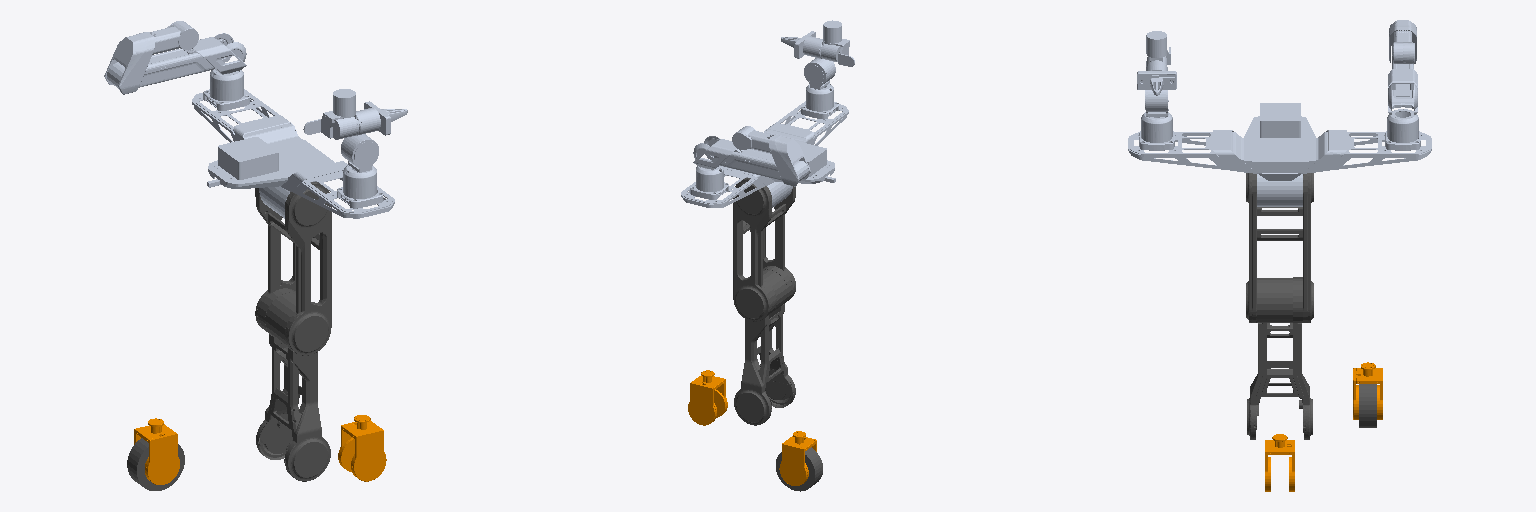
--- Render facts (derived) ---
3 views of the same robot in one strip: view 1: azimuth 30°, elevation 25°; view 2: azimuth 150°, elevation 25°; view 3: azimuth 270°, elevation 25° (orthographic).
Robot: mmp_revB_invconfig_upright_a1x — 33 links, 32 joints (18 revolute, 4 continuous, 6 prismatic, 4 fixed); root link root; default pose: every joint at zero.
Links seen in each view (by area): view 1: torso_link3, torso_link1, torso_link2, left_arm_link2, left_arm_link3, steer_motor_link1, steer_motor_link2, right_arm_base_link, left_arm_base_link, right_arm_link4, wheel_motor_link2, right_arm_link1 (+1 smaller); view 2: torso_link1, torso_link2, torso_link3, left_arm_link2, left_arm_link3, steer_motor_link1, steer_motor_link2, left_arm_base_link, right_arm_base_link, right_arm_link4, wheel_motor_link2, right_arm_link1 (+1 smaller); view 3: torso_link3, torso_link1, torso_link2, left_arm_link2, left_arm_base_link, right_arm_base_link, left_arm_link3, steer_motor_link2, steer_motor_link1, wheel_motor_link2, right_gripper_link, right_arm_link4 (+1 smaller).
Boxes of the visible links, x1,y1,x2,y2 form: torso_link3: [192, 89, 394, 218]; torso_link1: [256, 288, 330, 481]; torso_link2: [255, 182, 331, 355]; left_arm_link2: [107, 33, 246, 88]; left_arm_link3: [104, 21, 198, 94]; steer_motor_link1: [338, 415, 386, 481]; steer_motor_link2: [134, 418, 179, 484]; right_arm_base_link: [337, 165, 383, 208]; left_arm_base_link: [203, 69, 249, 110]; right_arm_link4: [303, 89, 355, 138]; wheel_motor_link2: [127, 438, 184, 490]; right_arm_link1: [341, 134, 378, 172]; torso_link1: [734, 266, 795, 425]; torso_link2: [733, 178, 795, 321]; torso_link3: [681, 101, 848, 207]; left_arm_link2: [693, 136, 808, 180]; left_arm_link3: [732, 126, 810, 186]; steer_motor_link1: [688, 370, 727, 425]; steer_motor_link2: [779, 431, 816, 485]; left_arm_base_link: [690, 166, 728, 199]; right_arm_base_link: [801, 83, 838, 119]; right_arm_link4: [823, 20, 854, 66]; wheel_motor_link2: [776, 447, 822, 491]; right_arm_link1: [804, 58, 835, 89]; torso_link3: [1128, 103, 1431, 206]; torso_link1: [1247, 277, 1312, 439]; torso_link2: [1246, 173, 1313, 322]; left_arm_link2: [1388, 45, 1417, 114]; left_arm_base_link: [1385, 109, 1420, 150]; right_arm_base_link: [1139, 112, 1174, 150]; left_arm_link3: [1389, 20, 1416, 63]; steer_motor_link2: [1353, 362, 1382, 419]; steer_motor_link1: [1265, 434, 1294, 491]; wheel_motor_link2: [1359, 384, 1376, 427]; right_gripper_link: [1137, 60, 1176, 89]; right_arm_link4: [1146, 31, 1170, 64].
Size in the robot's own frame: 0.8142 by 1.16 by 1.78 metres.
17 mesh visuals loaded from 30 distinct referenced files (17 binary STL); not drawn: 13 (reference not matched to a file when rendering).

robot.urdf — mmp_revB_invconfig_upright_a1x:
<?xml version='1.0' encoding='utf-8'?>
<robot name="mmp_revB_invconfig_upright_a1x">
  <link name="root">
    <inertial>
      <mass value="0.0" />
      <inertia ixx="0.0" ixy="0.0" ixz="0.0" iyy="0.0" iyz="0.0" izz="0.0" />
    </inertial>
  </link>
  <link name="root_arm_1_link_1">
    <inertial>
      <mass value="0.0" />
      <inertia ixx="0.0" ixy="0.0" ixz="0.0" iyy="0.0" iyz="0.0" izz="0.0" />
    </inertial>
  </link>
  <link name="root_arm_1_link_2">
    <inertial>
      <mass value="0.0" />
      <inertia ixx="0.0" ixy="0.0" ixz="0.0" iyy="0.0" iyz="0.0" izz="0.0" />
    </inertial>
  </link>
  <joint name="root_x_axis_joint" type="prismatic">
    <parent link="root" />
    <child link="root_arm_1_link_1" />
    <axis xyz="1 0 0" />
    <limit effort="100" lower="-20" upper="20" velocity="0.50" />
    <dynamics damping="10.0" friction="10" />
  </joint>
  <joint name="root_y_axis_joint" type="prismatic">
    <parent link="root_arm_1_link_1" />
    <child link="root_arm_1_link_2" />
    <axis xyz="0 1 0" />
    <limit effort="100" lower="-20" upper="20" velocity="0.50" />
    <dynamics damping="10.0" friction="10" />
  </joint>
  <joint name="root_z_rotation_joint" type="continuous">
    <parent link="root_arm_1_link_2" />
    <child link="base_link" />
    <axis xyz="0 0 1" />
    <dynamics damping="10.0" friction="1" />
  </joint>
  <link name="base_link">
    <inertial>
      <origin xyz="0.0718033657159837 -0.0016279349766449 0.128750850965126" rpy="0 0 0" />
      <mass value="68.91281599999999" />
      <inertia ixx="1.0272066597342813" ixy="0.00037709742916469" ixz="-0.04226963069677458" iyy="0.817685679047921" iyz="-0.00266093209778108" izz="1.5662451285900096" />
    </inertial>
    <visual>
      <origin xyz="0 0 0" rpy="0 0 0" />
      <geometry>
        <mesh filename="../meshes/base_link.STL" scale="1.4 1.4 1.4" />
      </geometry>
      <material name="">
        <color rgba="0.294117647058824 0.294117647058824 0.294117647058824 1" />
      </material>
    </visual>
    <collision>
      <origin xyz="0 0 0" rpy="0 0 0" />
      <geometry>
        <mesh filename="../meshes/base_link.STL" scale="1.4 1.4 1.4" />
      </geometry>
    </collision>
  </link>
  <link name="steer_motor_link1">
    <inertial>
      <origin xyz="-1.76196610579549E-07 -7.75116053202478E-05 -0.0852489956386505" rpy="0 0 0" />
      <mass value="4.115999999999999" />
      <inertia ixx="0.001821382122530813" ixy="3.303302041965096e-08" ixz="3.5526713338090616e-08" iyy="0.0027101002552780066" iyz="1.9389428020280148e-07" izz="0.001137426489910632" />
    </inertial>
    <visual>
      <origin xyz="0 0 0" rpy="0 0 0" />
      <geometry>
        <mesh filename="../meshes/steer_motor_link1.STL" scale="1.4 1.4 1.4" />
      </geometry>
      <material name="">
        <color rgba="1 0.6 0 1" />
      </material>
    </visual>
    <collision>
      <origin xyz="0 0 0" rpy="0 0 0" />
      <geometry>
        <mesh filename="../meshes/steer_motor_link1.STL" scale="1.4 1.4 1.4" />
      </geometry>
    </collision>
  </link>
  <joint name="steer_motor_joint1" type="revolute">
    <origin xyz="0.4085619999999999 -0.00208558 0.25431" rpy="0 0 0" />
    <parent link="base_link" />
    <child link="steer_motor_link1" />
    <axis xyz="0 0 1" />
    <limit lower="-3.1416" upper="3.1416" effort="20" velocity="20" />
  </joint>
  <link name="wheel_motor_link1">
    <inertial>
      <origin xyz="0 -9.99250577455509E-13 -2.34534613952064E-15" rpy="0 0 0" />
      <mass value="4.115999999999999" />
      <inertia ixx="0.005631151591003508" ixy="1.0874059651431817e-17" ixz="-4.664879593717945e-19" iyy="0.009736288918813396" iyz="1.9045748343875173e-16" izz="0.005631151591003508" />
    </inertial>
    <visual>
      <origin xyz="0 0 0" rpy="0 0 0" />
      <geometry>
        <mesh filename="../meshes/wheel_motor_link1.STL" scale="1.4 1.4 1.4" />
      </geometry>
      <material name="">
        <color rgba="0.4 0.4 0.4 1" />
      </material>
    </visual>
    <collision>
      <origin xyz="0 0 0" rpy="0 0 0" />
      <geometry>
        <mesh filename="../meshes/wheel_motor_link1.STL" scale="1.4 1.4 1.4" />
      </geometry>
    </collision>
  </link>
  <joint name="wheel_motor_joint1" type="continuous">
    <origin xyz="0.0 0.0 -0.15630999999999998" rpy="0 0 0" />
    <parent link="steer_motor_link1" />
    <child link="wheel_motor_link1" />
    <axis xyz="0 1 0" />
  </joint>
  <link name="steer_motor_link2">
    <inertial>
      <origin xyz="1.76196610607304E-07 7.75116053202962E-05 -0.0852489956386505" rpy="0 0 0" />
      <mass value="4.115999999999999" />
      <inertia ixx="0.001821382122530813" ixy="3.303302041968463e-08" ixz="-3.55267133380648e-08" iyy="0.0027101002552780066" iyz="-1.9389428020284932e-07" izz="0.0011374264899106266" />
    </inertial>
    <visual>
      <origin xyz="0 0 0" rpy="0 0 0" />
      <geometry>
        <mesh filename="../meshes/steer_motor_link2.STL" scale="1.4 1.4 1.4" />
      </geometry>
      <material name="">
        <color rgba="1 0.6 0 1" />
      </material>
    </visual>
    <collision>
      <origin xyz="0 0 0" rpy="0 0 0" />
      <geometry>
        <mesh filename="../meshes/steer_motor_link2.STL" scale="1.4 1.4 1.4" />
      </geometry>
    </collision>
  </link>
  <joint name="steer_motor_joint2" type="revolute">
    <origin xyz="-0.23543799999999995 0.333914 0.25431" rpy="0 0 0" />
    <parent link="base_link" />
    <child link="steer_motor_link2" />
    <axis xyz="0 0 1" />
    <limit lower="-3.1416" upper="3.1416" effort="20" velocity="20" />
  </joint>
  <link name="wheel_motor_link2">
    <inertial>
      <origin xyz="2.77555756156289E-17 -1.94289029309402E-16 -2.34621350125863E-15" rpy="0 0 0" />
      <mass value="4.115999999999999" />
      <inertia ixx="0.005631151591003508" ixy="1.081574865651036e-17" ixz="-4.664879593717945e-19" iyy="0.009736288918813396" iyz="1.9043968833532117e-16" izz="0.005631151591003508" />
    </inertial>
    <visual>
      <origin xyz="0 0 0" rpy="0 0 0" />
      <geometry>
        <mesh filename="../meshes/wheel_motor_link2.STL" scale="1.4 1.4 1.4" />
      </geometry>
      <material name="">
        <color rgba="0.4 0.4 0.4 1" />
      </material>
    </visual>
    <collision>
      <origin xyz="0 0 0" rpy="0 0 0" />
      <geometry>
        <mesh filename="../meshes/wheel_motor_link2.STL" scale="1.4 1.4 1.4" />
      </geometry>
    </collision>
  </link>
  <joint name="wheel_motor_joint2" type="continuous">
    <origin xyz="0.0 0.0 -0.15630999999999998" rpy="0 0 0" />
    <parent link="steer_motor_link2" />
    <child link="wheel_motor_link2" />
    <axis xyz="0 1 0" />
  </joint>
  <link name="steer_motor_link3">
    <inertial>
      <origin xyz="1.76196610579549E-07 7.75116053202407E-05 -0.0852489956386505" rpy="0 0 0" />
      <mass value="4.115999999999999" />
      <inertia ixx="0.001821382122530813" ixy="3.303302041963439e-08" ixz="-3.5526713338077116e-08" iyy="0.0027101002552780066" iyz="-1.9389428020285686e-07" izz="0.0011374264899106266" />
    </inertial>
    <visual>
      <origin xyz="0 0 0" rpy="0 0 0" />
      <geometry>
        <mesh filename="../meshes/steer_motor_link3.STL" scale="1.4 1.4 1.4" />
      </geometry>
      <material name="">
        <color rgba="1 0.6 0 1" />
      </material>
    </visual>
    <collision>
      <origin xyz="0 0 0" rpy="0 0 0" />
      <geometry>
        <mesh filename="../meshes/steer_motor_link3.STL" scale="1.4 1.4 1.4" />
      </geometry>
    </collision>
  </link>
  <joint name="steer_motor_joint3" type="revolute">
    <origin xyz="-0.23543799999999995 -0.338086 0.25431" rpy="0 0 0" />
    <parent link="base_link" />
    <child link="steer_motor_link3" />
    <axis xyz="0 0 1" />
    <limit lower="-3.1416" upper="3.1416" effort="20" velocity="20" />
  </joint>
  <link name="wheel_motor_link3">
    <inertial>
      <origin xyz="0 -1.94289029309402E-16 -2.34274405430668E-15" rpy="0 0 0" />
      <mass value="4.115999999999999" />
      <inertia ixx="0.005631151591003508" ixy="1.0757437661588849e-17" ixz="-4.664879593717951e-19" iyy="0.009736288918813396" iyz="1.9031882399282055e-16" izz="0.005631151591003508" />
    </inertial>
    <visual>
      <origin xyz="0 0 0" rpy="0 0 0" />
      <geometry>
        <mesh filename="../meshes/wheel_motor_link3.STL" scale="1.4 1.4 1.4" />
      </geometry>
      <material name="">
        <color rgba="0.4 0.4 0.4 1" />
      </material>
    </visual>
    <collision>
      <origin xyz="0 0 0" rpy="0 0 0" />
      <geometry>
        <mesh filename="../meshes/wheel_motor_link3.STL" scale="1.4 1.4 1.4" />
      </geometry>
    </collision>
  </link>
  <joint name="wheel_motor_joint3" type="continuous">
    <origin xyz="0.0 0.0 -0.15630999999999998" rpy="0 0 0" />
    <parent link="steer_motor_link3" />
    <child link="wheel_motor_link3" />
    <axis xyz="0 1 0" />
  </joint>
  <link name="torso_link1">
    <inertial>
      <origin xyz="0.00321196798398059 0.0116566745256909 0.100697975240297" rpy="0 0 0" />
      <mass value="13.190407999999998" />
      <inertia ixx="0.016700053370842495" ixy="2.09458541158197e-05" ixz="-0.0006025232107811478" iyy="0.0175797863861459" iyz="0.00022313381758557485" izz="0.0019092428613843452" />
    </inertial>
    <visual>
      <origin xyz="0 0 0" rpy="0 0 0" />
      <geometry>
        <mesh filename="../meshes/torso_link1.STL" scale="1.4 1.4 1.4" />
      </geometry>
      <material name="">
        <color rgba="0.4 0.4 0.4 1" />
      </material>
    </visual>
    <collision>
      <origin xyz="0 0 0" rpy="0 0 0" />
      <geometry>
        <mesh filename="../meshes/torso_link1.STL" scale="1.4 1.4 1.4" />
      </geometry>
    </collision>
  </link>
  <joint name="torso_joint1" type="revolute">
    <origin xyz="0.1285634 0.000504462 0.20811" rpy="0 0 0" />
    <parent link="base_link" />
    <child link="torso_link1" />
    <axis xyz="0 1 0" />
    <limit lower="-1.5708" upper="0.436333" effort="100" velocity="2.5" />
  </joint>
  <link name="torso_link2">
    <inertial>
      <origin xyz="0.00627300956924463 0.00536087570300695 0.184118796618929" rpy="0 0 0" />
      <mass value="7.625575999999998" />
      <inertia ixx="0.16647845073227746" ixy="-3.000841100996963e-06" ixz="0.001602458313011958" iyy="0.17488432495165873" iyz="4.840935592651211e-06" izz="0.00996353728126896" />
    </inertial>
    <visual>
      <origin xyz="0 0 0" rpy="0 0 0" />
      <geometry>
        <mesh filename="../meshes/torso_link2.STL" scale="1.4 1.4 1.4" />
      </geometry>
      <material name="">
        <color rgba="0.4 0.4 0.4 1" />
      </material>
    </visual>
    <collision>
      <origin xyz="0 0 0" rpy="0 0 0" />
      <geometry>
        <mesh filename="../meshes/torso_link2.STL" scale="1.4 1.4 1.4" />
      </geometry>
    </collision>
  </link>
  <joint name="torso_joint2" type="revolute">
    <origin xyz="0.0 -0.00259 0.48999999999999994" rpy="0 0 0" />
    <parent link="torso_link1" />
    <child link="torso_link2" />
    <axis xyz="0 1 0" />
    <limit lower="-2.705262" upper="2.705262" effort="100" velocity="2.5" />
  </joint>
  <link name="torso_link3">
    <inertial>
      <origin xyz="-0.0416383086406449 0.000484599582373232 0.051111008977659" rpy="0 0 0" />
      <mass value="14.908151999999996" />
      <inertia ixx="0.03480900997003041" ixy="-2.428064547610168e-06" ixz="-6.921119767943804e-05" iyy="0.029167113536826616" iyz="-9.009143358127262e-07" izz="0.04544945908543078" />
    </inertial>
    <visual>
      <origin xyz="0 0 0" rpy="0 0 0" />
      <geometry>
        <mesh filename="../meshes/torso_link3.STL" scale="1.4 1.4 1.4" />
      </geometry>
      <material name="">
        <color rgba="0.807843137254902 0.843137254901961 0.905882352941176 1" />
      </material>
    </visual>
    <collision>
      <origin xyz="0 0 0" rpy="0 0 0" />
      <geometry>
        <mesh filename="../meshes/torso_link3.STL" scale="1.4 1.4 1.4" />
      </geometry>
    </collision>
  </link>
  <joint name="torso_joint3" type="revolute">
    <origin xyz="0.00013507899999999997 0.0 0.48999999999999994" rpy="0 0 0" />
    <parent link="torso_link2" />
    <child link="torso_link3" />
    <axis xyz="0 -1 0" />
    <limit lower="-1.5708" upper="1.5708" effort="100" velocity="2.5" />
  </joint>
  <link name="left_arm_base_link">
    <inertial>
      <origin xyz="0.0030333225964161 -0.000695374211760413 0.0297999913998699" rpy="0 0 0" />
      <mass value="2.1567839999999996" />
      <inertia ixx="0.0011274886106709524" ixy="7.552571429797282e-06" ixz="3.05854962100262e-05" iyy="0.0010745567959356192" iyz="-1.966958783325106e-05" izz="0.0012771162646026293" />
    </inertial>
    <visual>
      <origin xyz="0 0 0" rpy="0 0 0" />
      <geometry>
        <mesh filename="../meshes/left_arm_base_link.STL" scale="1.4 1.4 1.4" />
      </geometry>
      <material name="">
        <color rgba="0.807843137254902 0.843137254901961 0.905882352941176 1" />
      </material>
    </visual>
    <collision>
      <origin xyz="0 0 0" rpy="0 0 0" />
      <geometry>
        <mesh filename="../meshes/left_arm_base_link.STL" scale="1.4 1.4 1.4" />
      </geometry>
    </collision>
  </link>
  <joint name="left_arm_base_joint" type="fixed">
    <origin xyz="0.0 0.469 0.172284" rpy="0 0 0" />
    <parent link="torso_link3" />
    <child link="left_arm_base_link" />
    <axis xyz="0 0 0" />
  </joint>
  <link name="left_arm_link1">
    <inertial>
      <origin xyz="3.42079032877862E-07 -0.00198629091504759 0.0468866154783616" rpy="0 0 0" />
      <mass value="2.302215999999999" />
      <inertia ixx="0.0012055067787915329" ixy="-2.5698714875738277e-09" ixz="4.535847638160171e-08" iyy="0.0014510995080370022" iyz="5.046652725103513e-08" izz="0.0011763656132037722" />
    </inertial>
    <visual>
      <origin xyz="0 0 0" rpy="0 0 0" />
      <geometry>
        <mesh filename="../meshes/left_arm_link1.STL" scale="1.4 1.4 1.4" />
      </geometry>
      <material name="">
        <color rgba="0.807843137254902 0.843137254901961 0.905882352941176 1" />
      </material>
    </visual>
    <collision>
      <origin xyz="0 0 0" rpy="0 0 0" />
      <geometry>
        <mesh filename="../meshes/left_arm_link1.STL" scale="1.4 1.4 1.4" />
      </geometry>
    </collision>
  </link>
  <joint name="left_arm_joint1" type="revolute">
    <origin xyz="0.0 0.0 0.12047" rpy="0 0 0" />
    <parent link="left_arm_base_link" />
    <child link="left_arm_link1" />
    <axis xyz="0 0 1" />
    <limit lower="-2.8798" upper="2.8798" effort="27" velocity="10.472" />
  </joint>
  <link name="left_arm_link2">
    <inertial>
      <origin xyz="-0.122675172740935 -0.0295384346078661 0.00365030178710546" rpy="0 0 0" />
      <mass value="2.9909599999999994" />
      <inertia ixx="0.0020880582798286935" ixy="-0.000117051468057201" ixz="4.794305834362259e-05" iyy="0.014770662478081764" iyz="6.440349515732482e-06" izz="0.014952155067566595" />
    </inertial>
    <visual>
      <origin xyz="0 0 0" rpy="0 0 0" />
      <geometry>
        <mesh filename="../meshes/left_arm_link2.STL" scale="1.4 1.4 1.4" />
      </geometry>
      <material name="">
        <color rgba="0.807843137254902 0.843137254901961 0.905882352941176 1" />
      </material>
    </visual>
    <collision>
      <origin xyz="0 0 0" rpy="0 0 0" />
      <geometry>
        <mesh filename="../meshes/left_arm_link2.STL" scale="1.4 1.4 1.4" />
      </geometry>
    </collision>
  </link>
  <joint name="left_arm_joint2" type="revolute">
    <origin xyz="0.0 0.04305 0.06895" rpy="0 0 0" />
    <parent link="left_arm_link1" />
    <child link="left_arm_link2" />
    <axis xyz="0 1 0" />
    <limit lower="0" upper="3.1416" effort="50" velocity="12.5664" />
  </joint>
  <link name="left_arm_link3">
    <inertial>
      <origin xyz="0.0566624793223791 -0.0291316466078999 0.0568018844686509" rpy="0 0 0" />
      <mass value="2.0278159999999996" />
      <inertia ixx="0.00138708867619999" ixy="5.523207842711784e-05" ixz="-0.000708280430517547" iyy="0.003610693434924549" iyz="-4.320784081268618e-05" izz="0.002958309576647805" />
    </inertial>
    <visual>
      <origin xyz="0 0 0" rpy="0 0 0" />
      <geometry>
        <mesh filename="../meshes/left_arm_link3.STL" scale="1.4 1.4 1.4" />
      </geometry>
      <material name="">
        <color rgba="0.807843137254902 0.843137254901961 0.905882352941176 1" />
      </material>
    </visual>
    <collision>
      <origin xyz="0 0 0" rpy="0 0 0" />
      <geometry>
        <mesh filename="../meshes/left_arm_link3.STL" scale="1.4 1.4 1.4" />
      </geometry>
    </collision>
  </link>
  <joint name="left_arm_joint3" type="revolute">
    <origin xyz="-0.42 0.00035005599999999996 0.0" rpy="0 0 0" />
    <parent link="left_arm_link2" />
    <child link="left_arm_link3" />
    <axis xyz="0 1 0" />
    <limit lower="-3.3161" upper="0" effort="27" velocity="10.472" />
  </joint>
  <link name="left_arm_link4">
    <inertial>
      <origin xyz="0.0699840030193581 -0.0287504697364447 0.0541968318197228" rpy="0 0 0" />
      <mass value="1.1497359999999996" />
      <inertia ixx="0.0003560431968959234" ixy="-5.0359499271140545e-08" ixz="-2.290466329918575e-08" iyy="0.00036534773674639146" iyz="4.182801836549661e-06" izz="0.0003599470202022323" />
    </inertial>
    <visual>
      <origin xyz="0 0 0" rpy="0 0 0" />
      <geometry>
        <mesh filename="../meshes/left_arm_link4.STL" scale="1.4 1.4 1.4" />
      </geometry>
      <material name="">
        <color rgba="0.807843137254902 0.843137254901961 0.905882352941176 1" />
      </material>
    </visual>
    <collision>
      <origin xyz="0 0 0" rpy="0 0 0" />
      <geometry>
        <mesh filename="../meshes/left_arm_link4.STL" scale="1.4 1.4 1.4" />
      </geometry>
    </collision>
  </link>
  <joint name="left_arm_joint4" type="revolute">
    <origin xyz="0.24457999999999996 0.0006963459999999999 0.105679" rpy="0 0 0" />
    <parent link="left_arm_link3" />
    <child link="left_arm_link4" />
    <axis xyz="0 1 0" />
    <limit lower="-1.5708" upper="1.5708" effort="14" velocity="32.9867" />
  </joint>
  <link name="left_arm_link5">
    <inertial>
      <origin xyz="-0.000803198983898074 -2.29028914278118E-07 -0.0402656141956459" rpy="0 0 0" />
      <mass value="0.14817599999999997" />
      <inertia ixx="0.00031216433785944705" ixy="-1.0469167130754845e-12" ixz="6.002860426500357e-14" iyy="0.00031000044012445066" iyz="-1.9156422354574326e-10" izz="0.000305784342010801" />
    </inertial>
    <visual>
      <origin xyz="0 0 0" rpy="0 0 0" />
      <geometry>
        <mesh filename="../meshes/left_arm_link5.STL" scale="1.4 1.4 1.4" />
      </geometry>
      <material name="">
        <color rgba="0.807843137254902 0.843137254901961 0.905882352941176 1" />
      </material>
    </visual>
    <collision>
      <origin xyz="0 0 0" rpy="0 0 0" />
      <geometry>
        <mesh filename="../meshes/left_arm_link5.STL" scale="1.4 1.4 1.4" />
      </geometry>
    </collision>
  </link>
  <joint name="left_arm_joint5" type="revolute">
    <origin xyz="0.11199999999999999 -0.044097199999999996 0.0567" rpy="0 0 0" />
    <parent link="left_arm_link4" />
    <child link="left_arm_link5" />
    <axis xyz="0 0 1" />
    <limit lower="-1.5708" upper="1.5708" effort="14" velocity="32.9867" />
  </joint>
  <link name="left_arm_link6">
    <inertial>
      <origin xyz="0.00709944426961403 -8.90673146347609E-10 -3.82632235882419E-05" rpy="0 0 0" />
      <mass value="0.08506399999999997" />
      <inertia ixx="1.852951192666749e-05" ixy="-1.0791777227210931e-12" ixz="-6.7839492544349356e-09" iyy="9.81920232014001e-06" iyz="-2.1263661323808377e-14" izz="9.773928827636731e-06" />
    </inertial>
    <visual>
      <origin xyz="0 0 0" rpy="0 0 0" />
      <geometry>
        <mesh filename="../meshes/left_arm_link6.STL" scale="1.4 1.4 1.4" />
      </geometry>
      <material name="">
        <color rgba="0.807843137254902 0.843137254901961 0.905882352941176 1" />
      </material>
    </visual>
    <collision>
      <origin xyz="0 0 0" rpy="0 0 0" />
      <geometry>
        <mesh filename="../meshes/left_arm_link6.STL" scale="1.4 1.4 1.4" />
      </geometry>
    </collision>
  </link>
  <joint name="left_arm_joint6" type="revolute">
    <origin xyz="0.031504199999999996 0.0 -0.0567" rpy="0 0 0" />
    <parent link="left_arm_link5" />
    <child link="left_arm_link6" />
    <axis xyz="1 0 0" />
    <limit lower="-2.8798" upper="2.8798" effort="14" velocity="32.9867" />
  </joint>
  <link name="left_gripper_link">
    <inertial>
      <origin xyz="-0.0311072323899603 1.17979991887118E-08 7.93394685505433E-08" rpy="0 0 0" />
      <mass value="1.6573759999999995" />
      <inertia ixx="0.0009459331562219459" ixy="-3.2593556990249244e-10" ixz="2.853927589865184e-09" iyy="0.0005304985185675659" iyz="-4.4030935170491043e-07" izz="0.0008880618760667349" />
    </inertial>
    <visual>
      <origin xyz="0 0 0" rpy="0 0 0" />
      <geometry>
        <mesh filename="../meshes/left_gripper_link.STL" scale="1.4 1.4 1.4" />
      </geometry>
      <material name="">
        <color rgba="0.807843137254902 0.843137254901961 0.905882352941176 1" />
      </material>
    </visual>
    <collision>
      <origin xyz="0 0 0" rpy="0 0 0" />
      <geometry>
        <mesh filename="../meshes/left_gripper_link.STL" scale="1.4 1.4 1.4" />
      </geometry>
    </collision>
  </link>
  <joint name="left_gripper_joint" type="fixed">
    <origin xyz="0.11431 0.0 0.0" rpy="0 0 0" />
    <parent link="left_arm_link6" />
    <child link="left_gripper_link" />
    <axis xyz="0 0 0" />
  </joint>
  <link name="left_gripper_finger_link1">
    <inertial>
      <origin xyz="-0.0195895895552112 -0.0151136845490034 0.00542254359093075" rpy="0 0 0" />
      <mass value="0.05541924349958667" />
      <inertia ixx="1.2938397465364641e-05" ixy="2.1458349140776624e-06" ixz="2.7544804716865443e-07" iyy="3.0714015253294136e-05" iyz="3.3316470492974573e-07" izz="3.4876928209016074e-05" />
    </inertial>
    <visual>
      <origin xyz="0 0 0" rpy="0 0 0" />
      <geometry>
        <mesh filename="../meshes/left_gripper_finger_link1.STL" scale="1.4 1.4 1.4" />
      </geometry>
      <material name="">
        <color rgba="0.807843137254902 0.843137254901961 0.905882352941176 1" />
      </material>
    </visual>
    <collision>
      <origin xyz="0 0 0" rpy="0 0 0" />
      <geometry>
        <mesh filename="../meshes/left_gripper_finger_link1.STL" scale="1.4 1.4 1.4" />
      </geometry>
    </collision>
  </link>
  <joint name="left_gripper_finger_joint1" type="prismatic">
    <origin xyz="0.051646 0.0188342 0.00016882599999999999" rpy="0 0 0" />
    <parent link="left_gripper_link" />
    <child link="left_gripper_finger_link1" />
    <axis xyz="0 1 0" />
    <limit lower="0" upper="0.05" effort="100" velocity="0.25" />
  </joint>
  <link name="left_gripper_finger_link2">
    <inertial>
      <origin xyz="-0.0195895857999098 0.0151136893508115 -0.00542254357246619" rpy="0 0 0" />
      <mass value="0.055419243785385514" />
      <inertia ixx="1.2938396479774085e-05" ixy="-2.145830550908631e-06" ixz="-2.754480046215807e-07" iyy="3.071401650547819e-05" iyz="3.3316473235778715e-07" izz="3.4876928388857107e-05" />
    </inertial>
    <visual>
      <origin xyz="0 0 0" rpy="0 0 0" />
      <geometry>
        <mesh filename="../meshes/left_gripper_finger_link2.STL" scale="1.4 1.4 1.4" />
      </geometry>
      <material name="">
        <color rgba="0.807843137254902 0.843137254901961 0.905882352941176 1" />
      </material>
    </visual>
    <collision>
      <origin xyz="0 0 0" rpy="0 0 0" />
      <geometry>
        <mesh filename="../meshes/left_gripper_finger_link2.STL" scale="1.4 1.4 1.4" />
      </geometry>
    </collision>
  </link>
  <joint name="left_gripper_finger_joint2" type="prismatic">
    <origin xyz="0.051646 -0.0188342 -0.00016882599999999999" rpy="0 0 0" />
    <parent link="left_gripper_link" />
    <child link="left_gripper_finger_link2" />
    <axis xyz="0 1 0" />
    <limit lower="-0.05" upper="0" effort="100" velocity="0.25" />
  </joint>
  <link name="right_arm_base_link">
    <inertial>
      <origin xyz="0.00303332259650781 -0.000695374211141575 0.0297999913998387" rpy="0 0 0" />
      <mass value="2.1567839999999996" />
      <inertia ixx="0.001127488610669581" ixy="7.552571440490137e-06" ixz="3.058549621319543e-05" iyy="0.0010745567959393786" iyz="-1.9669587826919205e-05" izz="0.0012771162646043235" />
    </inertial>
    <visual>
      <origin xyz="0 0 0" rpy="0 0 0" />
      <geometry>
        <mesh filename="../meshes/right_arm_base_link.STL" scale="1.4 1.4 1.4" />
      </geometry>
      <material name="">
        <color rgba="0.807843137254902 0.843137254901961 0.905882352941176 1" />
      </material>
    </visual>
    <collision>
      <origin xyz="0 0 0" rpy="0 0 0" />
      <geometry>
        <mesh filename="../meshes/right_arm_base_link.STL" scale="1.4 1.4 1.4" />
      </geometry>
    </collision>
  </link>
  <joint name="right_arm_base_joint" type="fixed">
    <origin xyz="0.0 -0.469 0.172284" rpy="0 0 0" />
    <parent link="torso_link3" />
    <child link="right_arm_base_link" />
    <axis xyz="0 0 0" />
  </joint>
  <link name="right_arm_link1">
    <inertial>
      <origin xyz="3.42079032877862E-07 -0.00198629091504759 0.0468866154783616" rpy="0 0 0" />
      <mass value="2.302215999999999" />
      <inertia ixx="0.0012055067787915329" ixy="-2.5698714875738277e-09" ixz="4.535847638160171e-08" iyy="0.0014510995080370022" iyz="5.046652725103513e-08" izz="0.0011763656132037722" />
    </inertial>
    <visual>
      <origin xyz="0 0 0" rpy="0 0 0" />
      <geometry>
        <mesh filename="../meshes/right_arm_link1.STL" scale="1.4 1.4 1.4" />
      </geometry>
      <material name="">
        <color rgba="0.807843137254902 0.843137254901961 0.905882352941176 1" />
      </material>
    </visual>
    <collision>
      <origin xyz="0 0 0" rpy="0 0 0" />
      <geometry>
        <mesh filename="../meshes/right_arm_link1.STL" scale="1.4 1.4 1.4" />
      </geometry>
    </collision>
  </link>
  <joint name="right_arm_joint1" type="revolute">
    <origin xyz="0.0 0.0 0.12047" rpy="0 0 0" />
    <parent link="right_arm_base_link" />
    <child link="right_arm_link1" />
    <axis xyz="0 0 1" />
    <limit lower="-2.8798" upper="2.8798" effort="27" velocity="10.472" />
  </joint>
  <link name="right_arm_link2">
    <inertial>
      <origin xyz="-0.122675172740935 -0.0295384346078661 0.00365030178710546" rpy="0 0 0" />
      <mass value="2.9909599999999994" />
      <inertia ixx="0.0020880582798286935" ixy="-0.000117051468057201" ixz="4.794305834362259e-05" iyy="0.014770662478081764" iyz="6.440349515732482e-06" izz="0.014952155067566595" />
    </inertial>
    <visual>
      <origin xyz="0 0 0" rpy="0 0 0" />
      <geometry>
        <mesh filename="../meshes/right_arm_link2.STL" scale="1.4 1.4 1.4" />
      </geometry>
      <material name="">
        <color rgba="0.807843137254902 0.843137254901961 0.905882352941176 1" />
      </material>
    </visual>
    <collision>
      <origin xyz="0 0 0" rpy="0 0 0" />
      <geometry>
        <mesh filename="../meshes/right_arm_link2.STL" scale="1.4 1.4 1.4" />
      </geometry>
    </collision>
  </link>
  <joint name="right_arm_joint2" type="revolute">
    <origin xyz="0.0 0.04305 0.06895" rpy="0 0 0" />
    <parent link="right_arm_link1" />
    <child link="right_arm_link2" />
    <axis xyz="0 1 0" />
    <limit lower="0" upper="3.1416" effort="50" velocity="12.5664" />
  </joint>
  <link name="right_arm_link3">
    <inertial>
      <origin xyz="0.0566624793223791 -0.0291316466078999 0.0568018844686509" rpy="0 0 0" />
      <mass value="2.0278159999999996" />
      <inertia ixx="0.00138708867619999" ixy="5.523207842711784e-05" ixz="-0.000708280430517547" iyy="0.003610693434924549" iyz="-4.320784081268618e-05" izz="0.002958309576647805" />
    </inertial>
    <visual>
      <origin xyz="0 0 0" rpy="0 0 0" />
      <geometry>
        <mesh filename="../meshes/right_arm_link3.STL" scale="1.4 1.4 1.4" />
      </geometry>
      <material name="">
        <color rgba="0.807843137254902 0.843137254901961 0.905882352941176 1" />
      </material>
    </visual>
    <collision>
      <origin xyz="0 0 0" rpy="0 0 0" />
      <geometry>
        <mesh filename="../meshes/right_arm_link3.STL" scale="1.4 1.4 1.4" />
      </geometry>
    </collision>
  </link>
  <joint name="right_arm_joint3" type="revolute">
    <origin xyz="-0.42 0.00035005599999999996 0.0" rpy="0 0 0" />
    <parent link="right_arm_link2" />
    <child link="right_arm_link3" />
    <axis xyz="0 1 0" />
    <limit lower="-3.3161" upper="0" effort="27" velocity="10.472" />
  </joint>
  <link name="right_arm_link4">
    <inertial>
      <origin xyz="0.0699840030193581 -0.0287504697364447 0.0541968318197228" rpy="0 0 0" />
      <mass value="1.1497359999999996" />
      <inertia ixx="0.0003560431968959234" ixy="-5.0359499271140545e-08" ixz="-2.290466329918575e-08" iyy="0.00036534773674639146" iyz="4.182801836549661e-06" izz="0.0003599470202022323" />
    </inertial>
    <visual>
      <origin xyz="0 0 0" rpy="0 0 0" />
      <geometry>
        <mesh filename="../meshes/right_arm_link4.STL" scale="1.4 1.4 1.4" />
      </geometry>
      <material name="">
        <color rgba="0.807843137254902 0.843137254901961 0.905882352941176 1" />
      </material>
    </visual>
    <collision>
      <origin xyz="0 0 0" rpy="0 0 0" />
      <geometry>
        <mesh filename="../meshes/right_arm_link4.STL" scale="1.4 1.4 1.4" />
      </geometry>
    </collision>
  </link>
  <joint name="right_arm_joint4" type="revolute">
    <origin xyz="0.24457999999999996 0.0006963459999999999 0.105679" rpy="0 0 0" />
    <parent link="right_arm_link3" />
    <child link="right_arm_link4" />
    <axis xyz="0 1 0" />
    <limit lower="-1.5708" upper="1.5708" effort="14" velocity="32.9867" />
  </joint>
  <link name="right_arm_link5">
    <inertial>
      <origin xyz="-0.000803198983898074 -2.29028914278118E-07 -0.0402656141956459" rpy="0 0 0" />
      <mass value="0.14817599999999997" />
      <inertia ixx="0.00031216433785944705" ixy="-1.0469167130754845e-12" ixz="6.002860426500357e-14" iyy="0.00031000044012445066" iyz="-1.9156422354574326e-10" izz="0.000305784342010801" />
    </inertial>
    <visual>
      <origin xyz="0 0 0" rpy="0 0 0" />
      <geometry>
        <mesh filename="../meshes/right_arm_link5.STL" scale="1.4 1.4 1.4" />
      </geometry>
      <material name="">
        <color rgba="0.807843137254902 0.843137254901961 0.905882352941176 1" />
      </material>
    </visual>
    <collision>
      <origin xyz="0 0 0" rpy="0 0 0" />
      <geometry>
        <mesh filename="../meshes/right_arm_link5.STL" scale="1.4 1.4 1.4" />
      </geometry>
    </collision>
  </link>
  <joint name="right_arm_joint5" type="revolute">
    <origin xyz="0.11199999999999999 -0.044097199999999996 0.0567" rpy="0 0 0" />
    <parent link="right_arm_link4" />
    <child link="right_arm_link5" />
    <axis xyz="0 0 1" />
    <limit lower="-1.5708" upper="1.5708" effort="14" velocity="32.9867" />
  </joint>
  <link name="right_arm_link6">
    <inertial>
      <origin xyz="0.00709944426961403 -8.90673146347609E-10 -3.82632235882419E-05" rpy="0 0 0" />
      <mass value="0.08506399999999997" />
      <inertia ixx="1.852951192666749e-05" ixy="-1.0791777227210931e-12" ixz="-6.7839492544349356e-09" iyy="9.81920232014001e-06" iyz="-2.1263661323808377e-14" izz="9.773928827636731e-06" />
    </inertial>
    <visual>
      <origin xyz="0 0 0" rpy="0 0 0" />
      <geometry>
        <mesh filename="../meshes/right_arm_link6.STL" scale="1.4 1.4 1.4" />
      </geometry>
      <material name="">
        <color rgba="0.807843137254902 0.843137254901961 0.905882352941176 1" />
      </material>
    </visual>
    <collision>
      <origin xyz="0 0 0" rpy="0 0 0" />
      <geometry>
        <mesh filename="../meshes/right_arm_link6.STL" scale="1.4 1.4 1.4" />
      </geometry>
    </collision>
  </link>
  <joint name="right_arm_joint6" type="revolute">
    <origin xyz="0.031504199999999996 0.0 -0.0567" rpy="0 0 0" />
    <parent link="right_arm_link5" />
    <child link="right_arm_link6" />
    <axis xyz="1 0 0" />
    <limit lower="-2.8798" upper="2.8798" effort="14" velocity="32.9867" />
  </joint>
  <link name="right_gripper_link">
    <inertial>
      <origin xyz="-0.0311072323899603 1.17979991887118E-08 7.93394685505433E-08" rpy="0 0 0" />
      <mass value="1.6573759999999995" />
      <inertia ixx="0.0009459331562219459" ixy="-3.2593556990249244e-10" ixz="2.853927589865184e-09" iyy="0.0005304985185675659" iyz="-4.4030935170491043e-07" izz="0.0008880618760667349" />
    </inertial>
    <visual>
      <origin xyz="0 0 0" rpy="0 0 0" />
      <geometry>
        <mesh filename="../meshes/right_gripper_link.STL" scale="1.4 1.4 1.4" />
      </geometry>
      <material name="">
        <color rgba="0.807843137254902 0.843137254901961 0.905882352941176 1" />
      </material>
    </visual>
    <collision>
      <origin xyz="0 0 0" rpy="0 0 0" />
      <geometry>
        <mesh filename="../meshes/right_gripper_link.STL" scale="1.4 1.4 1.4" />
      </geometry>
    </collision>
  </link>
  <joint name="right_gripper_joint" type="fixed">
    <origin xyz="0.11431 0.0 0.0" rpy="0 0 0" />
    <parent link="right_arm_link6" />
    <child link="right_gripper_link" />
    <axis xyz="0 0 0" />
  </joint>
  <link name="right_gripper_finger_link1">
    <inertial>
      <origin xyz="-0.0195895895552112 -0.0151136845490034 0.00542254359093075" rpy="0 0 0" />
      <mass value="0.05541924349958667" />
      <inertia ixx="1.2938397465364641e-05" ixy="2.1458349140776624e-06" ixz="2.7544804716865443e-07" iyy="3.0714015253294136e-05" iyz="3.3316470492974573e-07" izz="3.4876928209016074e-05" />
    </inertial>
    <visual>
      <origin xyz="0 0 0" rpy="0 0 0" />
      <geometry>
        <mesh filename="../meshes/right_gripper_finger_link1.STL" scale="1.4 1.4 1.4" />
      </geometry>
      <material name="">
        <color rgba="0.807843137254902 0.843137254901961 0.905882352941176 1" />
      </material>
    </visual>
    <collision>
      <origin xyz="0 0 0" rpy="0 0 0" />
      <geometry>
        <mesh filename="../meshes/right_gripper_finger_link1.STL" scale="1.4 1.4 1.4" />
      </geometry>
    </collision>
  </link>
  <joint name="right_gripper_finger_joint1" type="prismatic">
    <origin xyz="0.051646 0.0188342 0.00016882599999999999" rpy="0 0 0" />
    <parent link="right_gripper_link" />
    <child link="right_gripper_finger_link1" />
    <axis xyz="0 1 0" />
    <limit lower="0" upper="0.05" effort="100" velocity="0.25" />
  </joint>
  <link name="right_gripper_finger_link2">
    <inertial>
      <origin xyz="-0.0195895857999098 0.0151136893508115 -0.00542254357246619" rpy="0 0 0" />
      <mass value="0.055419243785385514" />
      <inertia ixx="1.2938396479774085e-05" ixy="-2.145830550908631e-06" ixz="-2.754480046215807e-07" iyy="3.071401650547819e-05" iyz="3.3316473235778715e-07" izz="3.4876928388857107e-05" />
    </inertial>
    <visual>
      <origin xyz="0 0 0" rpy="0 0 0" />
      <geometry>
        <mesh filename="../meshes/right_gripper_finger_link2.STL" scale="1.4 1.4 1.4" />
      </geometry>
      <material name="">
        <color rgba="0.807843137254902 0.843137254901961 0.905882352941176 1" />
      </material>
    </visual>
    <collision>
      <origin xyz="0 0 0" rpy="0 0 0" />
      <geometry>
        <mesh filename="../meshes/right_gripper_finger_link2.STL" scale="1.4 1.4 1.4" />
      </geometry>
    </collision>
  </link>
  <joint name="right_gripper_finger_joint2" type="prismatic">
    <origin xyz="0.051646 -0.0188342 -0.00016882599999999999" rpy="0 0 0" />
    <parent link="right_gripper_link" />
    <child link="right_gripper_finger_link2" />
    <axis xyz="0 1 0" />
    <limit lower="-0.05" upper="0" effort="100" velocity="0.25" />
  </joint>
</robot>
